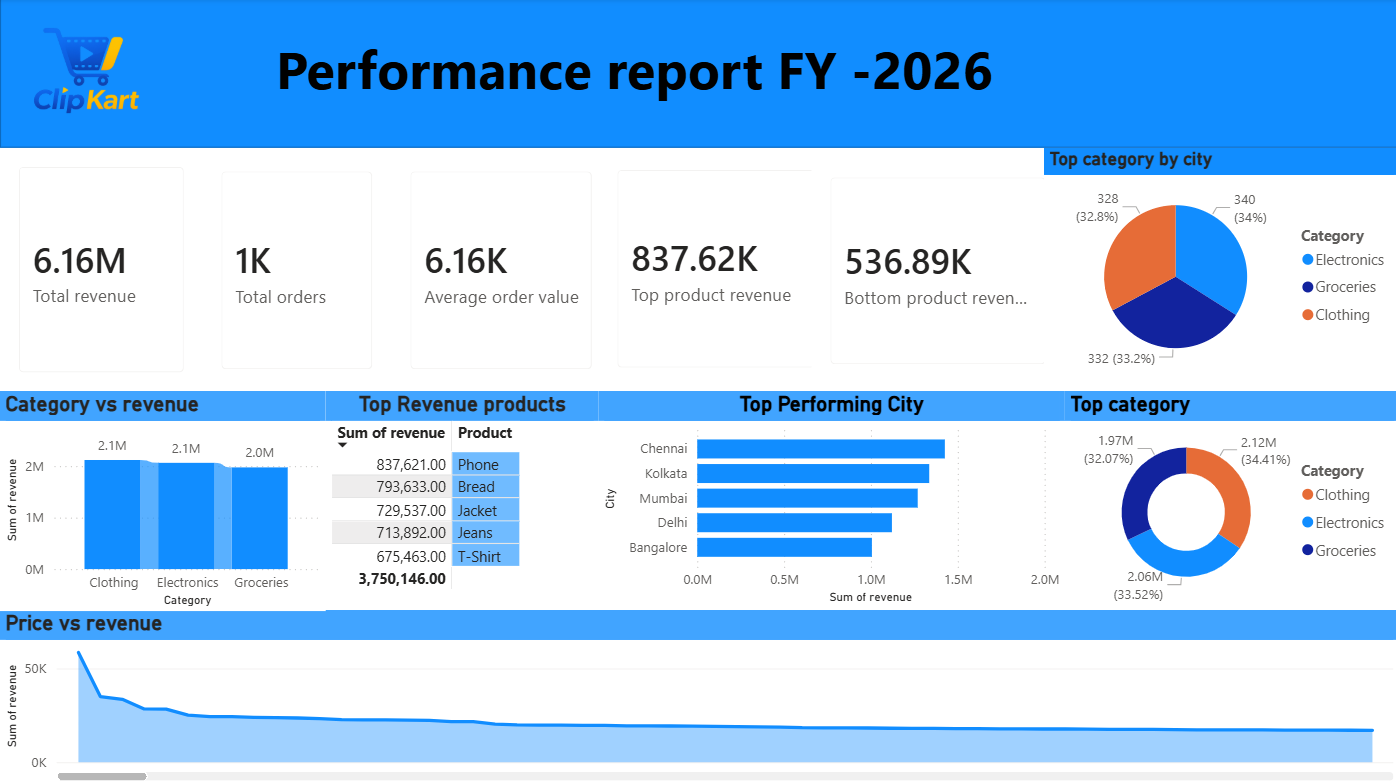

Layout of this report page (visuals, bound fields, positions):
{"tool":"powerbi","page":{"name":"Page 1","canvas":[1280,720],"ordinal":0},"visuals":[{"type":"shape","box":[0,0,1280.7,137],"z":0},{"type":"image","box":[0,0,156.9,137],"z":1000},{"type":"textbox","box":[184.7,25.8,790.3,81.4],"z":2000},{"type":"cardVisual","fields":{"Data":["Sum(clipkart_ecommerce_data.revenue)"]},"box":[0,137.2,185.3,222.3],"z":3000},{"type":"lineChart","title":"Price vs revenue","fields":{"Y":["Sum(clipkart_ecommerce_data.revenue)"],"Category":["clipkart_ecommerce_data.Price"]},"box":[0,559.4,1279.7,160.9],"z":4000},{"type":"columnChart","title":"Category vs revenue","fields":{"Category":["clipkart_ecommerce_data.Category"],"Y":["Sum(clipkart_ecommerce_data.revenue)"]},"box":[0,359.1,297.7,201.6],"z":5000},{"type":"tableEx","title":"Top Revenue products","fields":{"Values":["Sum(clipkart_ecommerce_data.revenue)","clipkart_ecommerce_data.Product"]},"box":[297.7,359.1,250.4,200],"z":6000},{"type":"cardVisual","title":"Total orders","fields":{"Data":["CountNonNull(clipkart_ecommerce_data.revenue)"]},"box":[185.3,141.3,172.9,215.5],"z":7000},{"type":"clusteredBarChart","title":"Top Performing City","fields":{"Category":["clipkart_ecommerce_data.City"],"Y":["Sum(clipkart_ecommerce_data.revenue)"]},"box":[547.6,359.5,426.8,199],"z":8000},{"type":"cardVisual","title":"Total orders","fields":{"Data":["clipkart_ecommerce_data.Average order value"]},"box":[358.2,141.3,200.4,215.5],"z":9000},{"type":"donutChart","title":"Top category","fields":{"Category":["clipkart_ecommerce_data.Category"],"Y":["Sum(clipkart_ecommerce_data.revenue)"]},"box":[974.4,359.5,306,199],"z":10000},{"type":"cardVisual","title":"Total orders","fields":{"Data":["clipkart_ecommerce_data.Top product revenue"]},"box":[547.6,140,215.5,215.5],"z":11000},{"type":"cardVisual","title":"Total orders","fields":{"Data":["clipkart_ecommerce_data.Lowest product revenue"]},"box":[742.4,146.8,231.9,205.8],"z":12000},{"type":"pieChart","title":"Top category by city","fields":{"Category":["clipkart_ecommerce_data.Category"],"Y":["CountNonNull(clipkart_ecommerce_data.City)"]},"box":[955.1,137.2,325.2,215.5],"z":13000}]}

Visuals, with their boxes in screenshot pixels (x1, y1, x2, y2), scaled from the page's 1280x720 canvas onto the 1396x784 screenshot:
shape: [x1=0, y1=0, x2=1395, y2=149]
image: [x1=0, y1=0, x2=171, y2=149]
textbox: [x1=201, y1=28, x2=1063, y2=117]
cardVisual - Sum(clipkart_ecommerce_data.revenue): [x1=0, y1=149, x2=202, y2=391]
"Price vs revenue" lineChart: [x1=0, y1=609, x2=1395, y2=783]
"Category vs revenue" columnChart: [x1=0, y1=391, x2=325, y2=611]
"Top Revenue products" tableEx: [x1=325, y1=391, x2=598, y2=609]
"Total orders" cardVisual: [x1=202, y1=154, x2=391, y2=389]
"Top Performing City" clusteredBarChart: [x1=597, y1=391, x2=1063, y2=608]
"Total orders" cardVisual: [x1=391, y1=154, x2=609, y2=389]
"Top category" donutChart: [x1=1063, y1=391, x2=1395, y2=608]
"Total orders" cardVisual: [x1=597, y1=152, x2=832, y2=387]
"Total orders" cardVisual: [x1=810, y1=160, x2=1063, y2=384]
"Top category by city" pieChart: [x1=1042, y1=149, x2=1395, y2=384]
